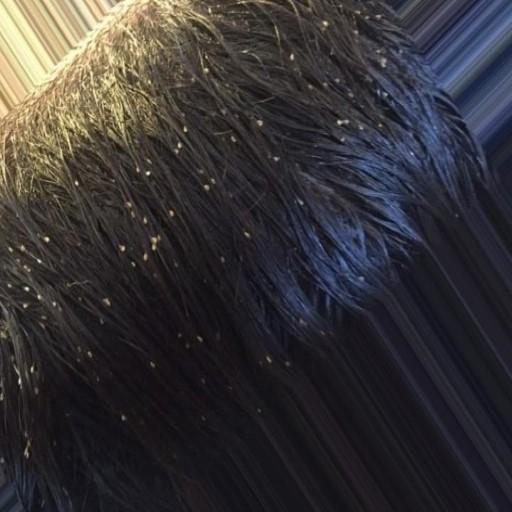Head_Lice: (72, 340, 98, 362), (198, 173, 221, 195), (121, 199, 140, 220), (147, 234, 166, 253), (134, 163, 151, 181), (116, 239, 132, 257), (261, 351, 277, 369), (292, 194, 309, 209), (286, 49, 301, 65), (100, 291, 114, 308), (194, 331, 209, 346), (69, 178, 86, 191), (378, 57, 393, 71), (214, 257, 230, 270), (303, 80, 319, 93), (237, 229, 254, 241), (176, 120, 190, 134), (334, 117, 353, 127), (372, 87, 391, 97), (21, 286, 35, 299), (252, 117, 269, 127), (344, 87, 357, 100), (320, 17, 329, 33), (145, 357, 158, 368), (26, 364, 36, 377), (52, 299, 60, 310)
